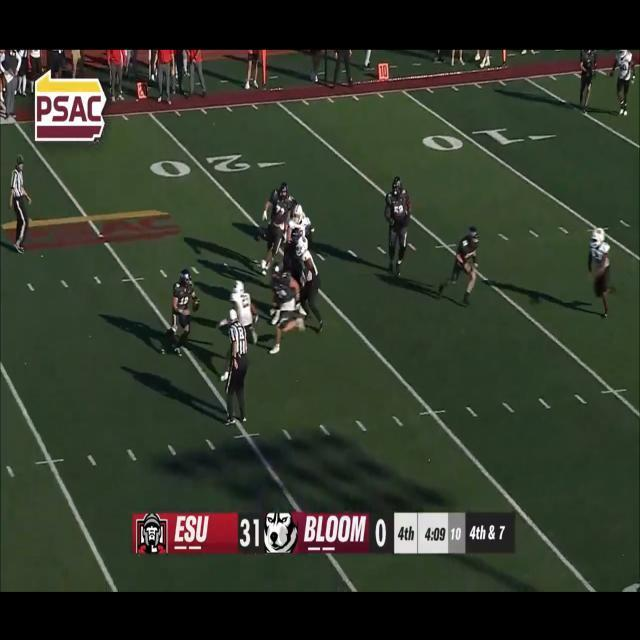football: (190, 296, 202, 313)
